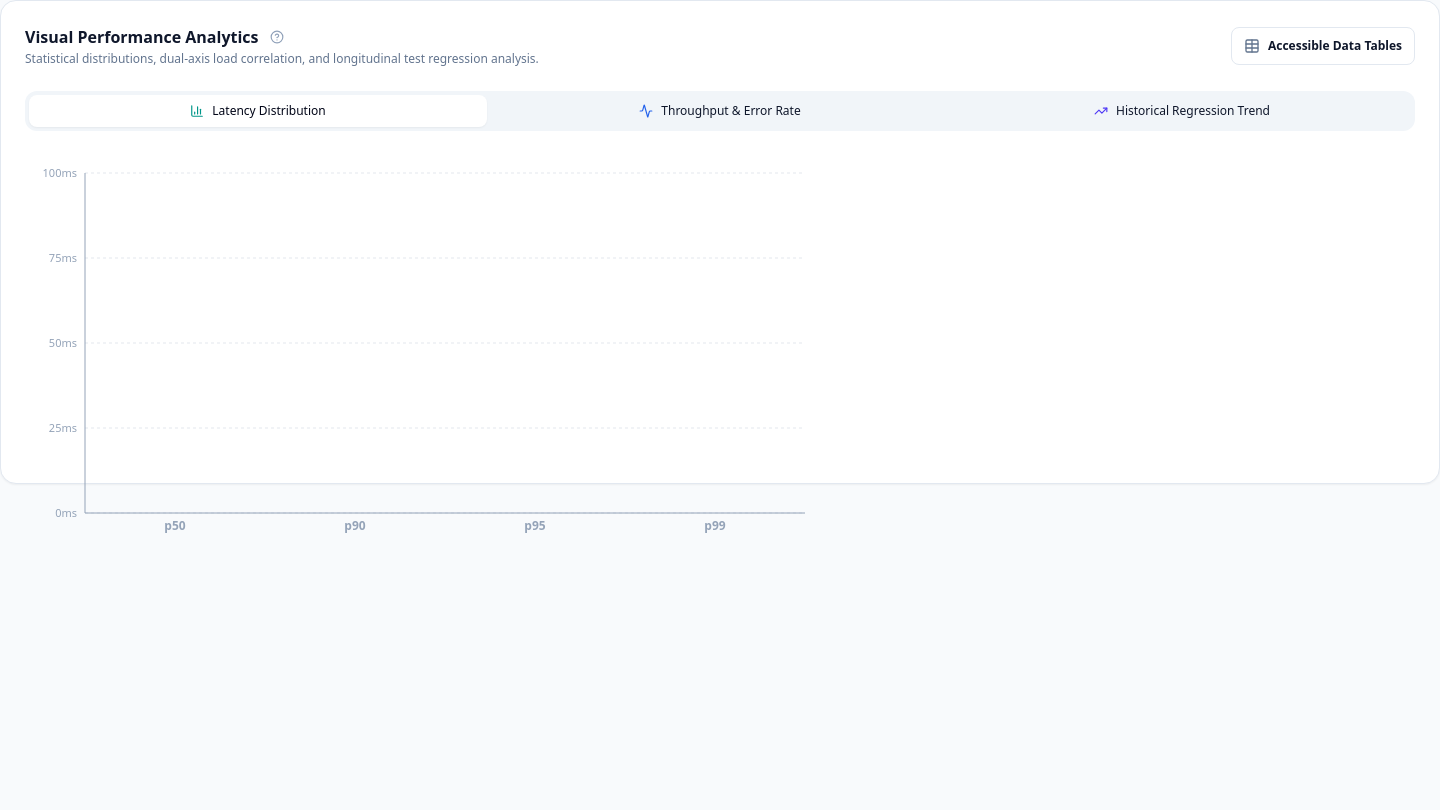
Recharts Performance Visualizations (Issue #73) › 4. VisualAnalyticsSection Container & Toggle › allows toggling between Visual Charts and Accessible Data Tables views
Expected: the heading "Visual Performance Analytics" is shown, [25,25,258,49]
Expected: the tab "Latency Distribution" is shown, [29,95,487,127]
// Click toggle to show data table view
Click the button with aria-label "toggle data tables view": (1323, 46) [1231,27,1415,65]
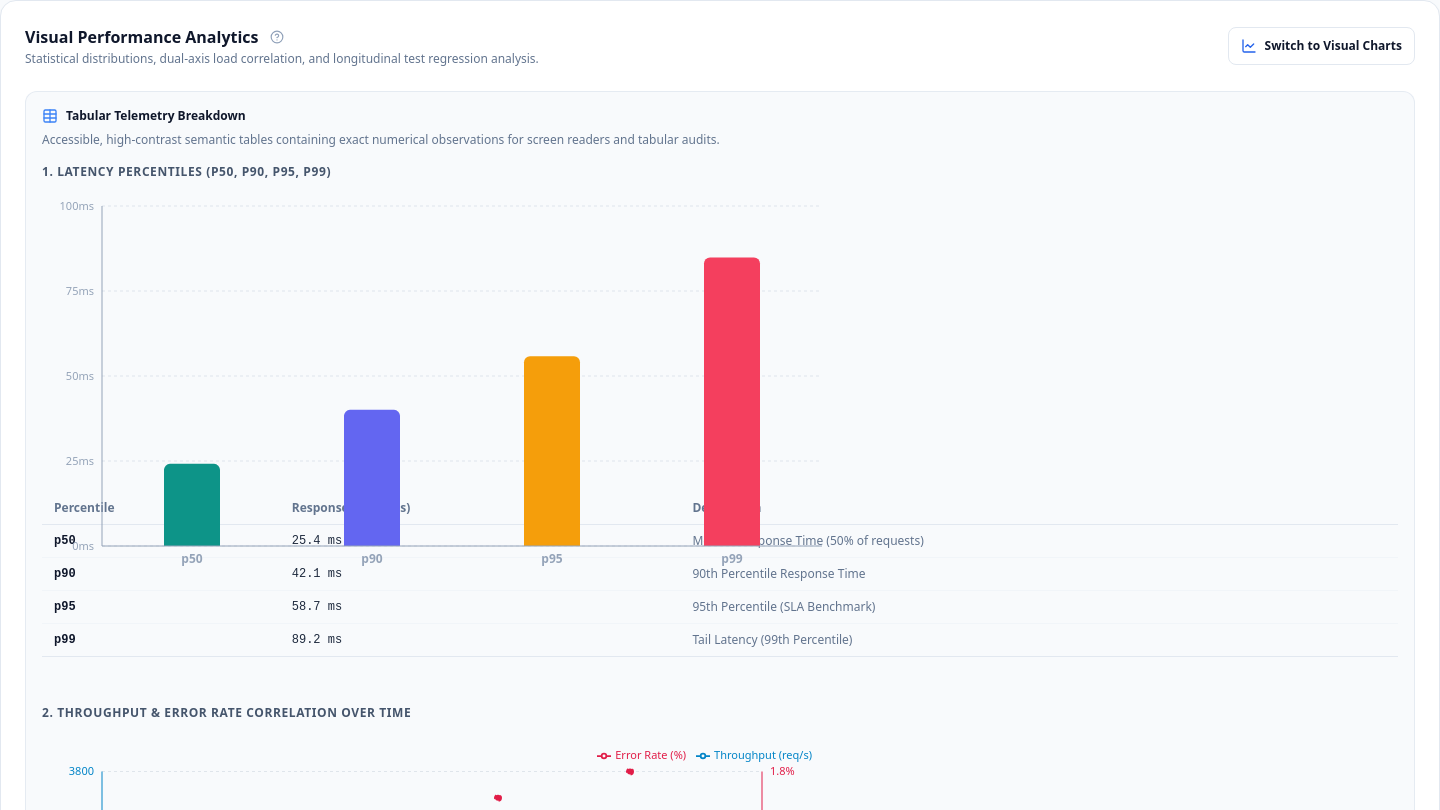
Now the text "Tabular Telemetry Breakdown" is shown, box [66,108,246,124]
